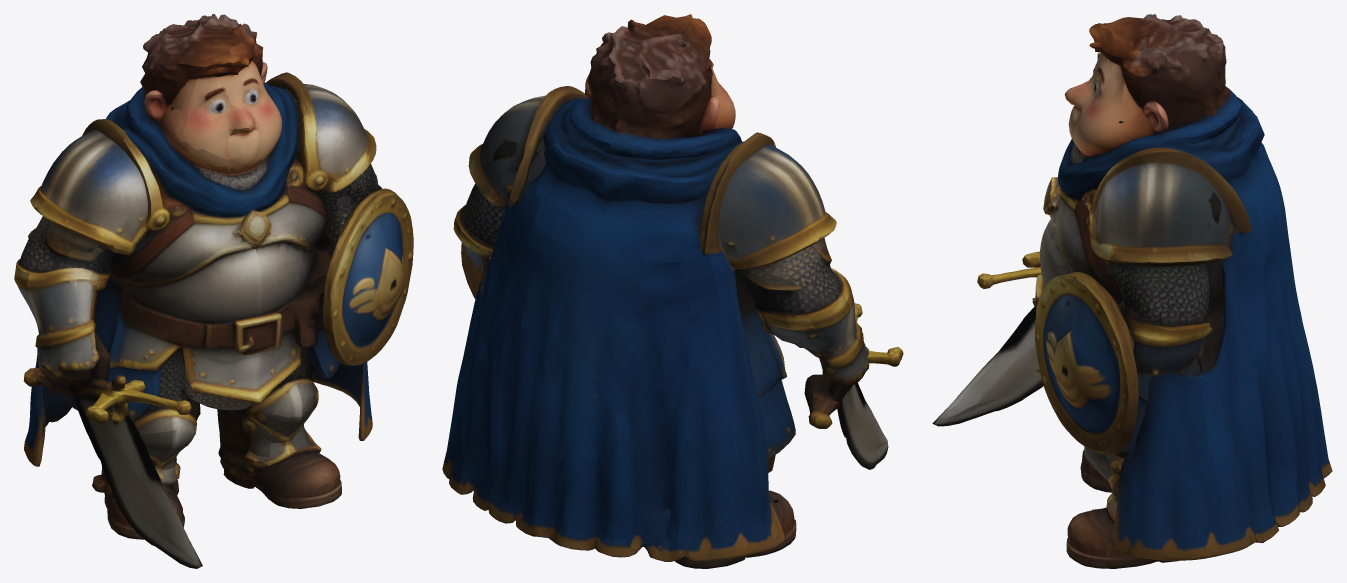
Rendered from kael.glb.
3 views of the same model, side by side, from view 1: azimuth 30°, elevation 25°; view 2: azimuth 150°, elevation 25°; view 3: azimuth 270°, elevation 25° (orthographic). The views are drawn at different scales.
Visible parts, largest first — view 1: Kael_Weapon, Kael_Head, Kael_ForeL, Kael_Hip, Kael_ArmR, Kael_ArmL, Kael_Torso, Kael_ForeR, Kael_ShinL, Kael_ShinR, Kael_LegR, Kael_LegL; view 2: Kael_LegR, Kael_LegL, Kael_ArmR, Kael_ForeR, Kael_Head, Kael_Torso, Kael_ArmL, Kael_ForeL, Kael_Weapon, Kael_ShinR, Kael_ShinL; view 3: Kael_LegL, Kael_ForeL, Kael_ArmL, Kael_Head, Kael_Weapon, Kael_Torso, Kael_ShinL, Kael_Hip, Kael_ArmR, Kael_ShinR.
Part boxes in pixels (x1,y1,x2,y2): Kael_Weapon: (23, 146, 300, 568); Kael_Head: (126, 14, 282, 170); Kael_ForeL: (277, 190, 413, 371); Kael_Hip: (98, 217, 379, 523); Kael_ArmR: (16, 119, 147, 303); Kael_ArmL: (259, 72, 398, 250); Kael_Torso: (46, 85, 313, 420); Kael_ForeR: (14, 247, 136, 381); Kael_ShinL: (217, 364, 372, 508); Kael_ShinR: (24, 402, 200, 539); Kael_LegR: (26, 355, 70, 445); Kael_LegL: (334, 362, 372, 436); Kael_LegR: (571, 276, 776, 555); Kael_LegL: (447, 242, 611, 537); Kael_ArmR: (564, 132, 852, 332); Kael_ForeR: (593, 244, 868, 441); Kael_Head: (569, 14, 735, 154); Kael_Torso: (528, 97, 774, 550); Kael_ArmL: (455, 86, 610, 314); Kael_ForeL: (453, 191, 578, 345); Kael_Weapon: (764, 145, 903, 471); Kael_ShinR: (571, 490, 796, 568); Kael_ShinL: (442, 449, 589, 549); Kael_LegL: (1112, 209, 1326, 557); Kael_ForeL: (1035, 203, 1291, 453); Kael_ArmL: (1056, 147, 1283, 330); Kael_Head: (1064, 14, 1241, 155); Kael_Weapon: (932, 188, 1077, 426); Kael_Torso: (1043, 97, 1291, 289); Kael_ShinL: (1066, 414, 1332, 568); Kael_Hip: (1037, 211, 1138, 559); Kael_ArmR: (1120, 121, 1285, 217); Kael_ShinR: (1081, 450, 1112, 492).
Size of the model in its own units: 1.44 by 1.72 by 1.26.
1 material, 1 textured.
